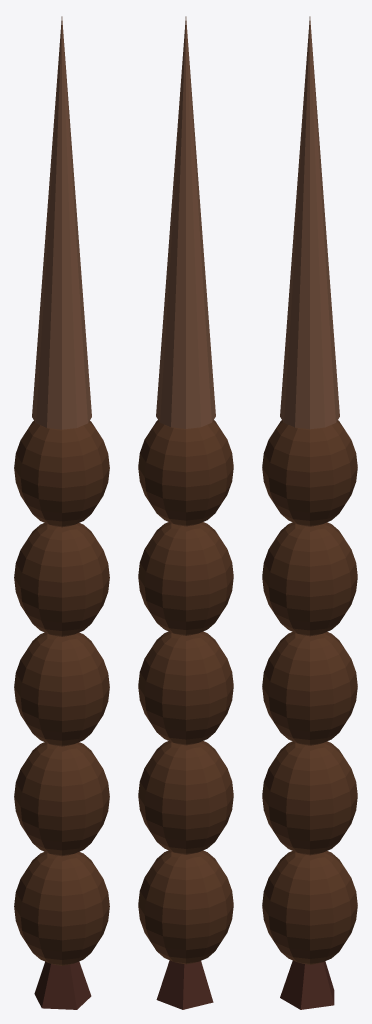
The model's file is Wand 228.glb.
3 renders of one model, left to right at view 1: azimuth 30°, elevation 25°; view 2: azimuth 210°, elevation 25°; view 3: azimuth 270°, elevation 25°, orthographic.
Parts seen in each view (by area): view 1: GeneratedWand; view 2: GeneratedWand; view 3: GeneratedWand.
Part boxes in pixels (<box>): GeneratedWand: <box>14,16,109,1009</box>; GeneratedWand: <box>138,16,233,1009</box>; GeneratedWand: <box>262,16,357,1009</box>.
Size of the model in its own units: 0.0447 by 0.5094 by 0.0449.
